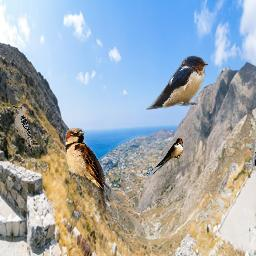Swallow: (64, 128, 107, 211), (146, 55, 209, 111), (147, 138, 183, 176)
Woodpecker: (11, 103, 35, 155)
